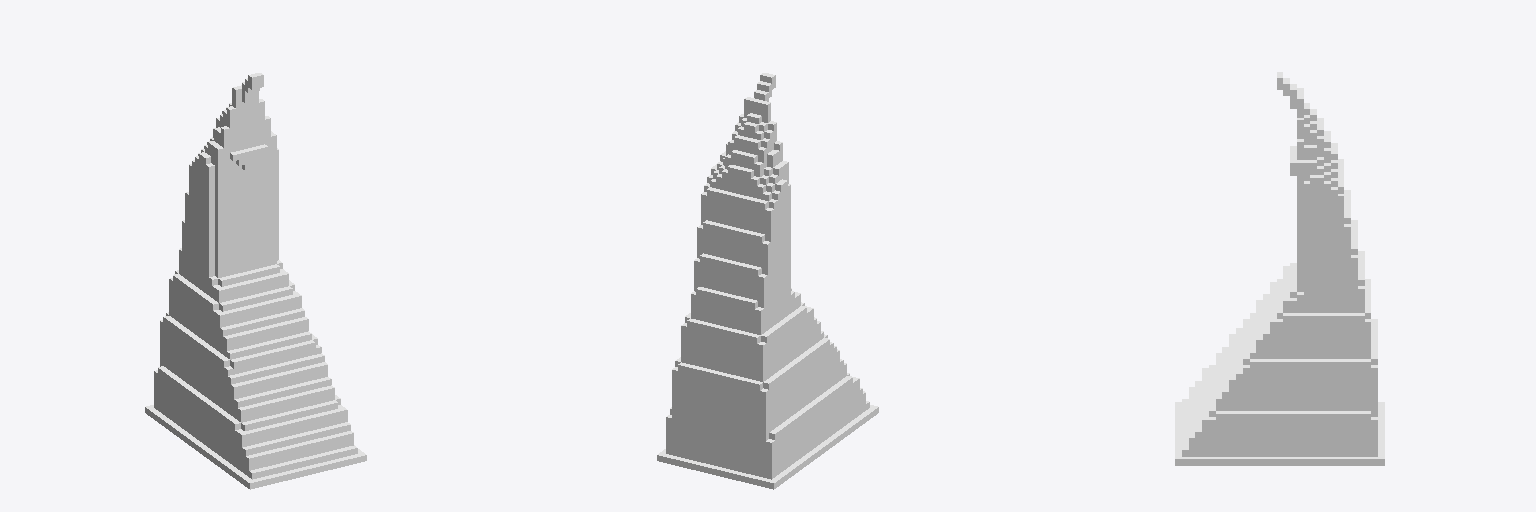
File: ObeliskOfLightG1.obj
3 renders of one model, left to right at view 1: azimuth 30°, elevation 25°; view 2: azimuth 150°, elevation 25°; view 3: azimuth 270°, elevation 25°, orthographic.
Parts seen in each view (by area): view 1: object 1; view 2: object 1; view 3: object 1.
Boxes of the visible parts, box(x1,y1,x2,y2) form: object 1: box(145, 73, 366, 489); object 1: box(657, 73, 878, 489); object 1: box(1175, 72, 1384, 465).
Size of the model in its own units: 2 by 5.9 by 3.1.